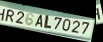character: (4, 8, 14, 22), (70, 19, 80, 33), (15, 10, 24, 24), (61, 17, 70, 31), (80, 20, 89, 34), (34, 13, 42, 28), (43, 14, 51, 29), (53, 16, 62, 29)
